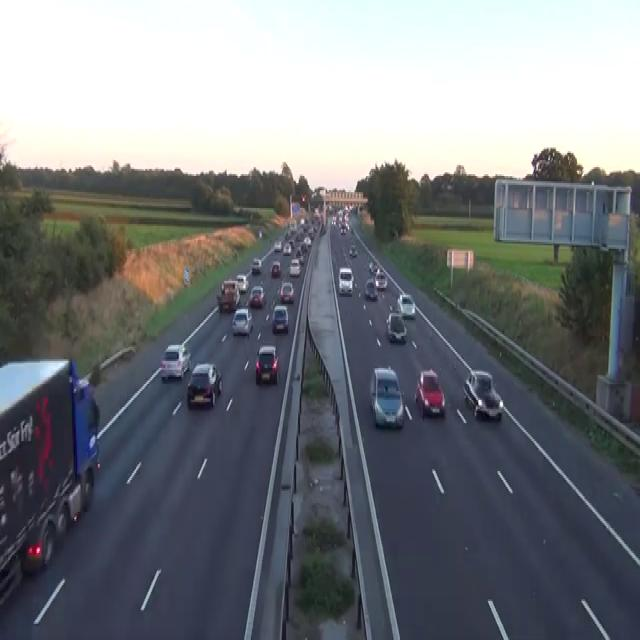Car: (369, 366, 404, 428), (463, 370, 503, 421), (186, 363, 222, 409), (414, 368, 445, 418), (160, 343, 191, 382), (255, 345, 279, 384), (385, 311, 407, 343), (231, 308, 252, 336), (396, 292, 416, 318), (271, 304, 288, 332), (338, 267, 353, 295), (248, 284, 265, 308), (278, 281, 294, 302), (221, 279, 239, 295), (364, 277, 377, 299), (375, 270, 387, 290), (236, 274, 249, 292), (251, 256, 262, 274), (289, 258, 300, 276), (271, 260, 281, 278), (368, 261, 378, 274), (348, 244, 357, 256), (282, 242, 291, 254), (273, 238, 281, 251), (304, 235, 311, 247), (320, 222, 326, 235), (289, 221, 296, 231), (331, 215, 336, 226), (288, 238, 294, 247), (300, 194, 306, 202), (340, 226, 346, 234), (328, 204, 334, 212), (258, 228, 262, 238), (348, 222, 352, 231)
Truck: (0, 356, 100, 606), (216, 279, 240, 313)
